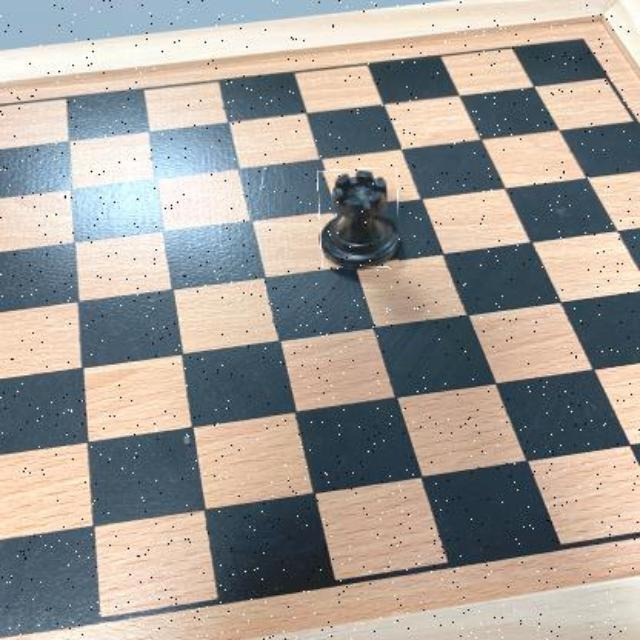black-rook: (318, 169, 399, 269)
